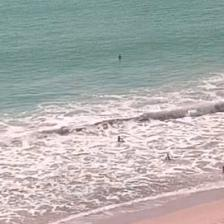surfer: (117, 136, 123, 143), (118, 54, 122, 60)
